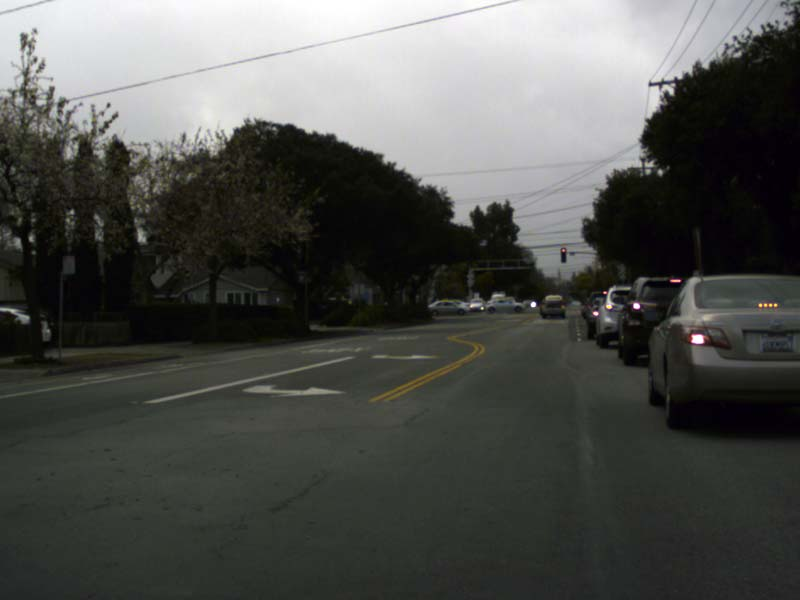Red: (560, 247, 565, 261)
